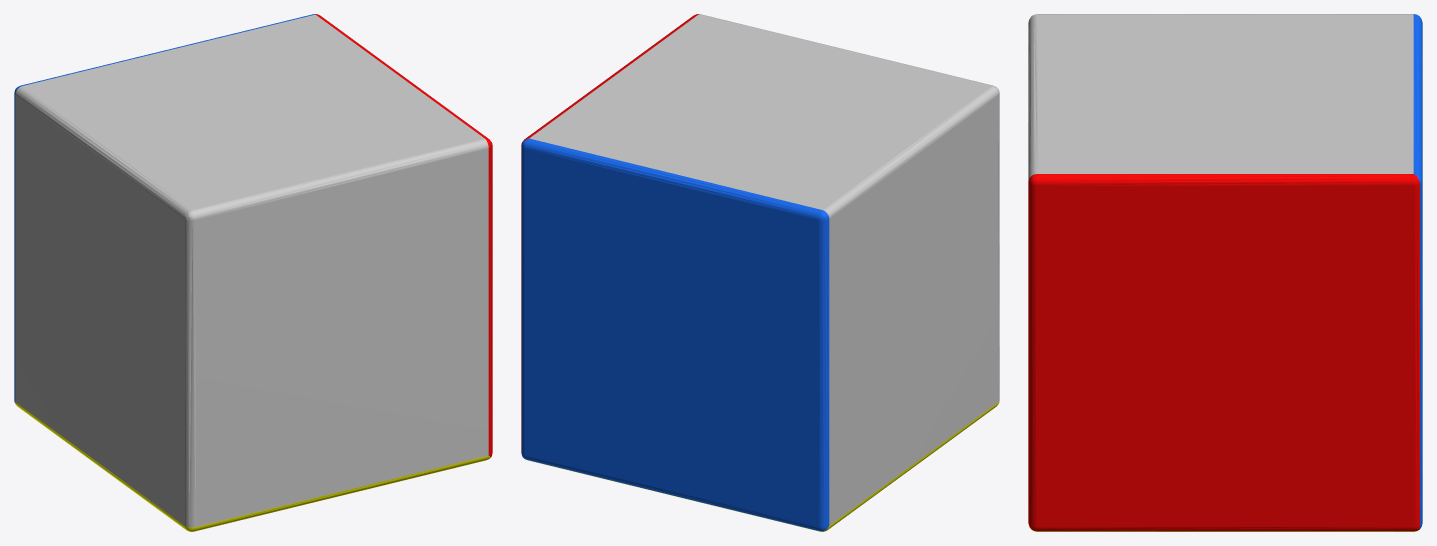
Rendered from DRB.obj.
The picture shows the model from 3 angles, left to right: view 1: azimuth 30°, elevation 25°; view 2: azimuth 150°, elevation 25°; view 3: azimuth 270°, elevation 25°; orthographic projection. The views are drawn at different scales.
Parts seen in each view (by area): view 1: corner_DRB; view 2: corner_DRB; view 3: corner_DRB.
Boxes of the visible parts, left/top/right/bottom form: corner_DRB: left=14, top=14, right=492, bottom=531; corner_DRB: left=521, top=14, right=999, bottom=531; corner_DRB: left=1028, top=14, right=1422, bottom=531.
Bounding box in the file's own units: 0.2003 × 0.2003 × 0.2003.
Materials: 1 (1 with a texture image).
